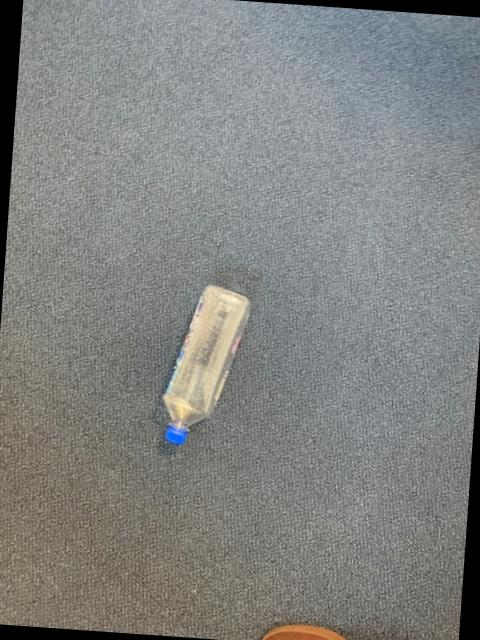plastic: (161, 286, 247, 444)
